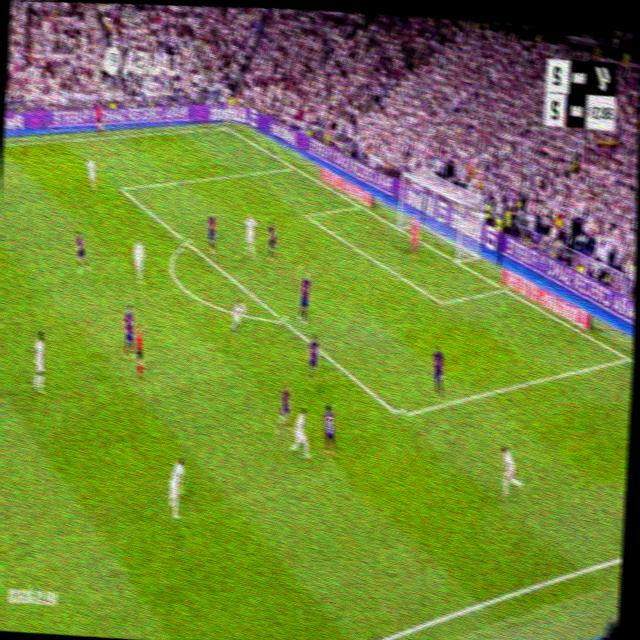bigarea_bottom_inner: (393, 402, 405, 427)
bigarea_bottom_outter: (621, 348, 633, 366)
bigarea_top_inner: (118, 181, 125, 195)
bigarea_top_outter: (288, 160, 296, 172)
bottom_arc_area_intersection: (275, 310, 288, 329)
corner: (222, 123, 229, 129)
smallarea_bottom_outter: (498, 280, 508, 295)
smallarea_top_inner: (303, 209, 310, 221)
top_arc_area_intersection: (181, 232, 192, 249)
